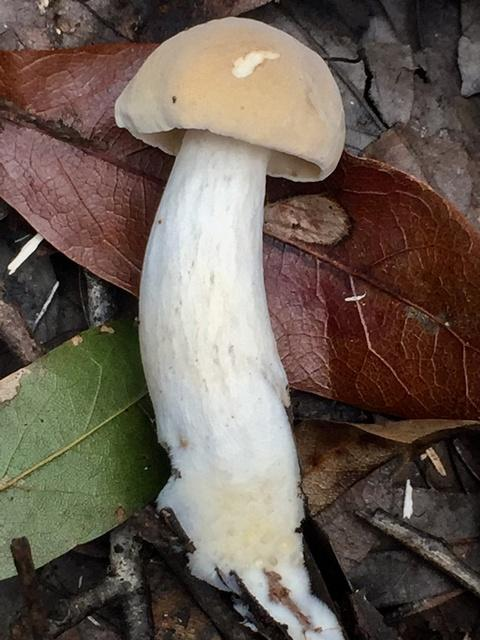Edible Mushroom: (112, 15, 350, 637)
